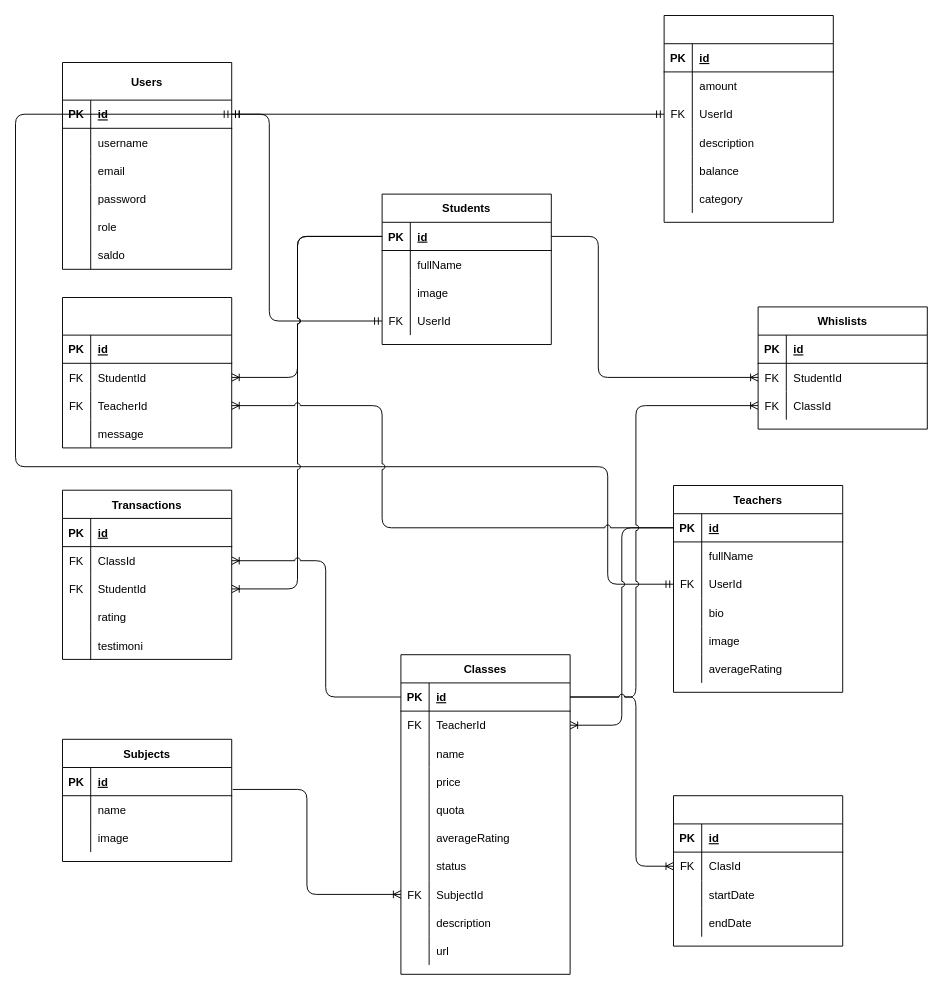
This 943x990 diagram has some shape labels left out. Each missing label, with the box of its shape:
Chats: (62, 297, 232, 448)
HistoriesSaldo: (663, 15, 833, 222)
Schedules: (673, 795, 843, 946)
